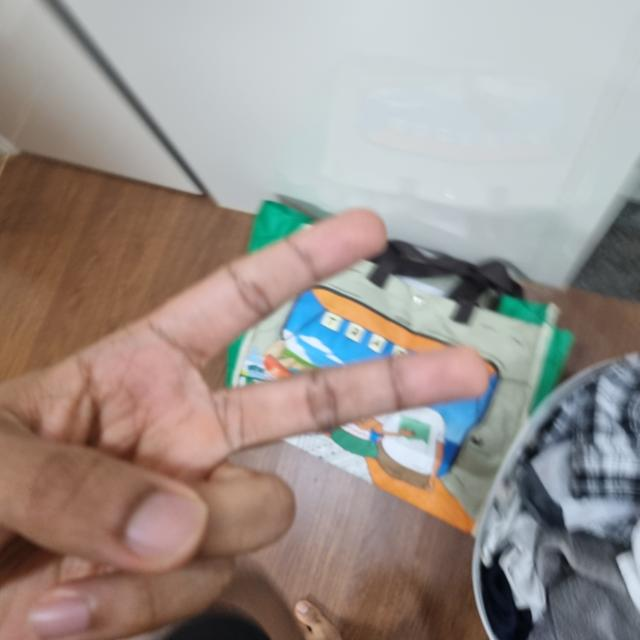Scissors: (0, 208, 498, 639)
